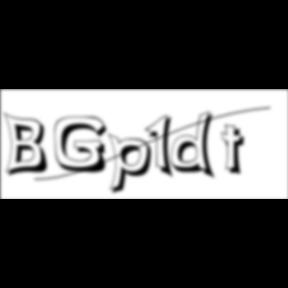1: (144, 114, 180, 182)
B: (4, 111, 54, 179)
G: (55, 116, 114, 176)
d: (171, 110, 221, 182)
p: (108, 132, 158, 198)
t: (222, 124, 252, 179)
